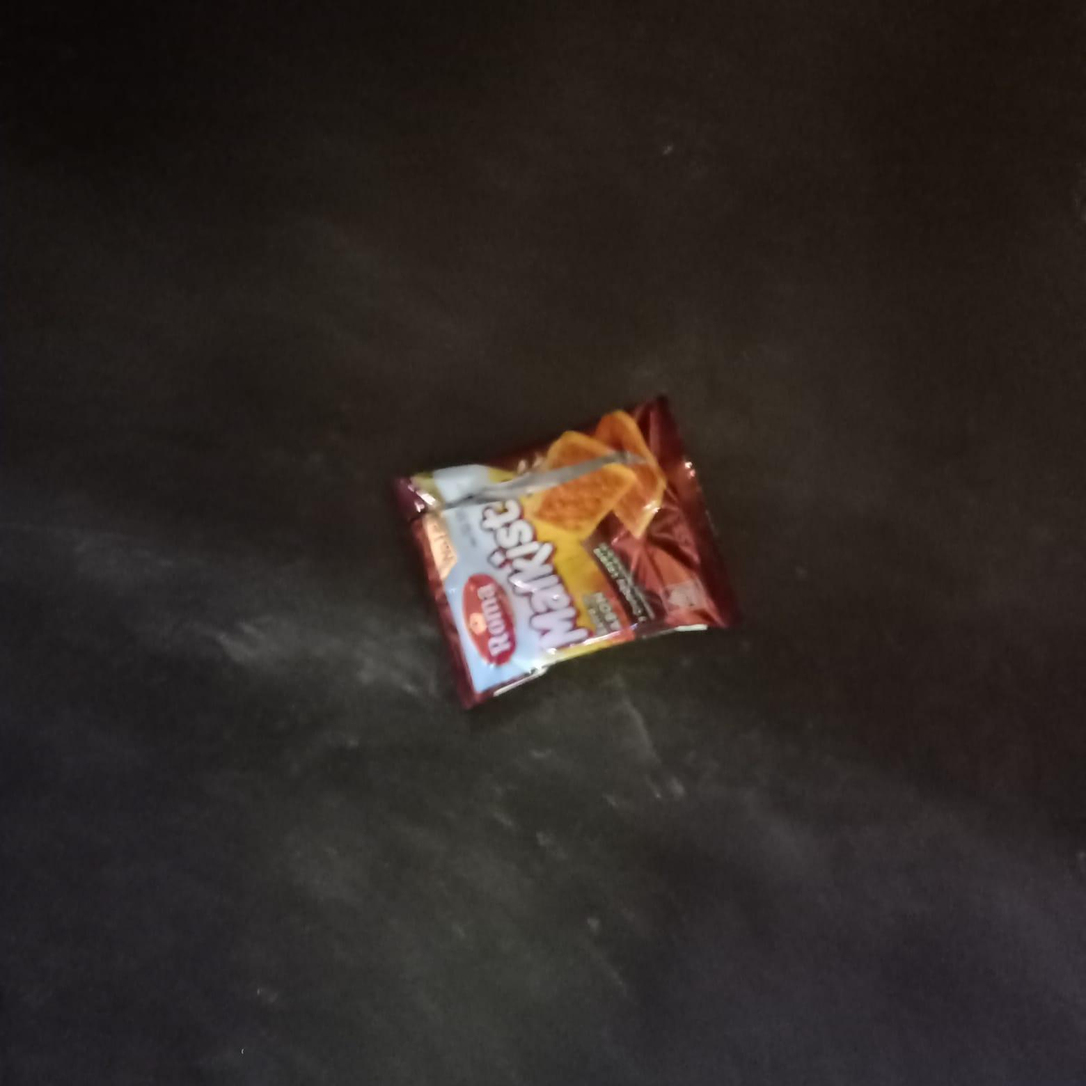Plastik: (392, 394, 752, 715)
